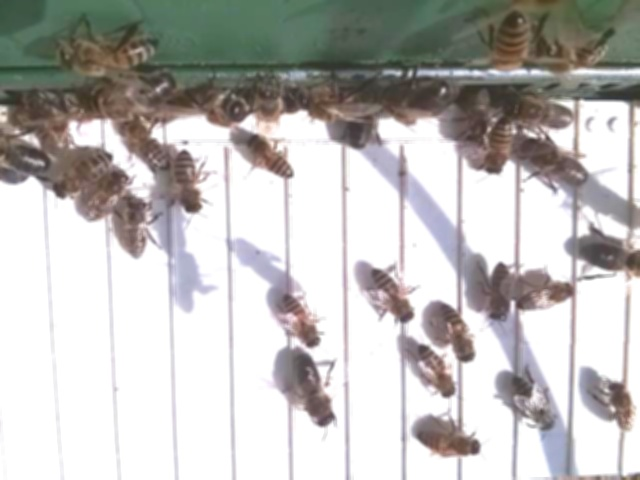Drone: (288, 350, 340, 434), (519, 139, 593, 193), (574, 235, 640, 282), (503, 93, 578, 133), (0, 139, 54, 181)
Worker: (366, 264, 419, 329), (53, 147, 117, 200), (278, 289, 326, 353), (511, 372, 558, 437), (123, 118, 174, 176), (81, 168, 130, 225), (413, 344, 459, 403), (171, 148, 208, 220), (439, 303, 479, 368), (248, 134, 298, 185), (413, 425, 483, 461), (482, 116, 518, 181), (517, 280, 579, 315), (122, 195, 153, 264), (604, 378, 640, 436), (485, 258, 514, 326)
